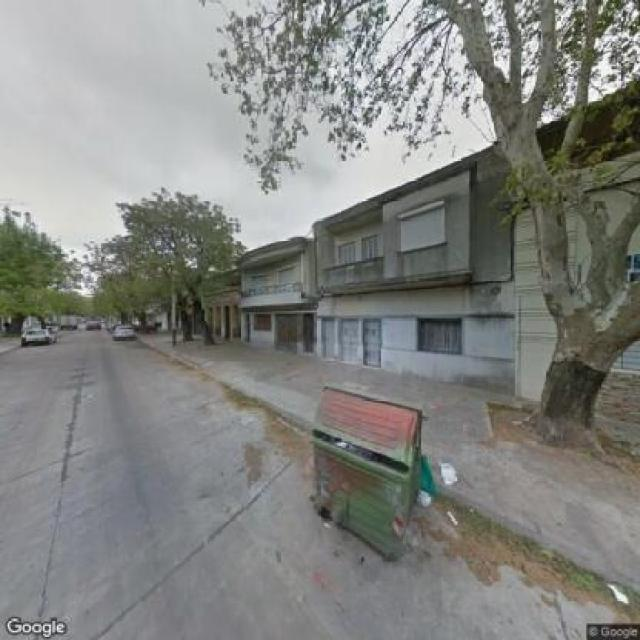garbage: (414, 425, 458, 525)
